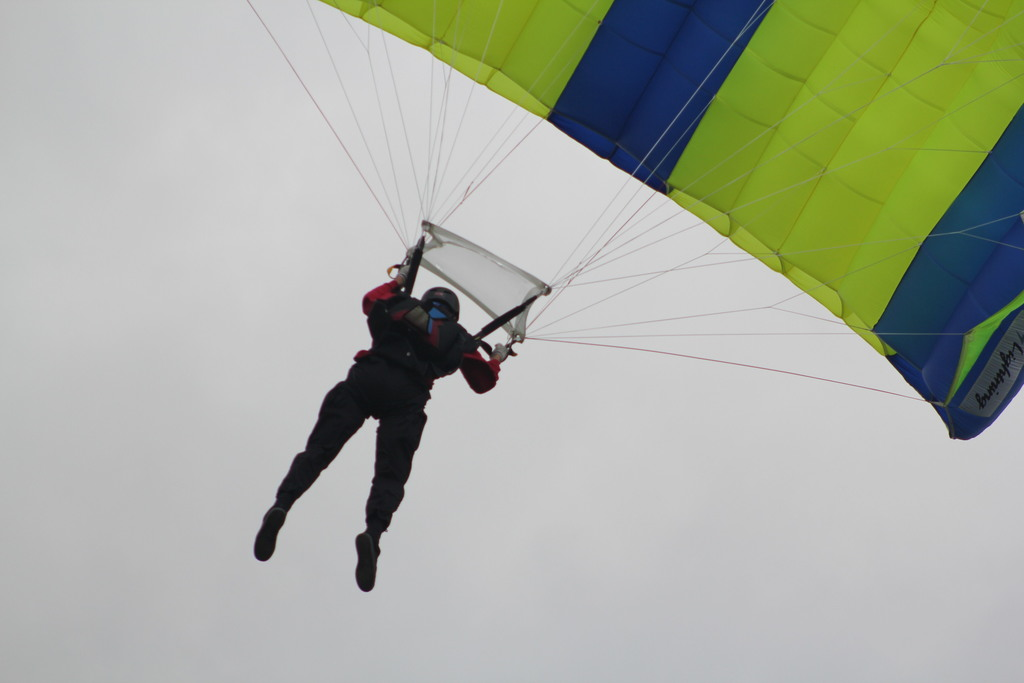Person: (253, 263, 508, 592)
